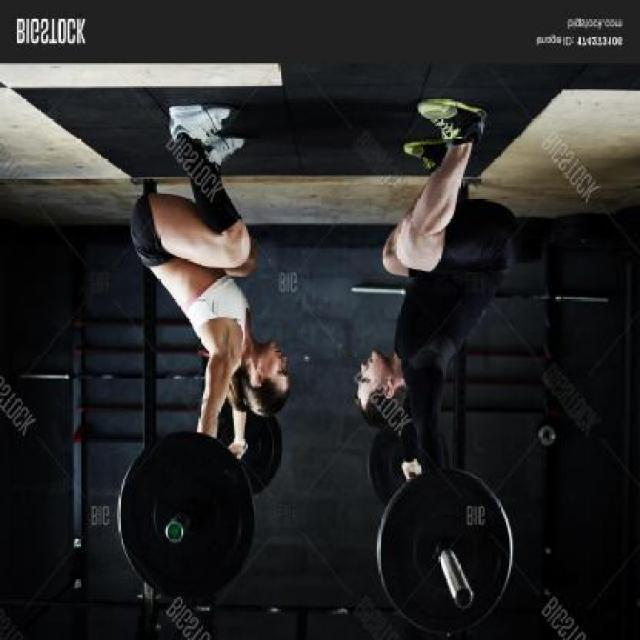Barbell: (163, 518, 184, 544), (455, 586, 473, 608)
